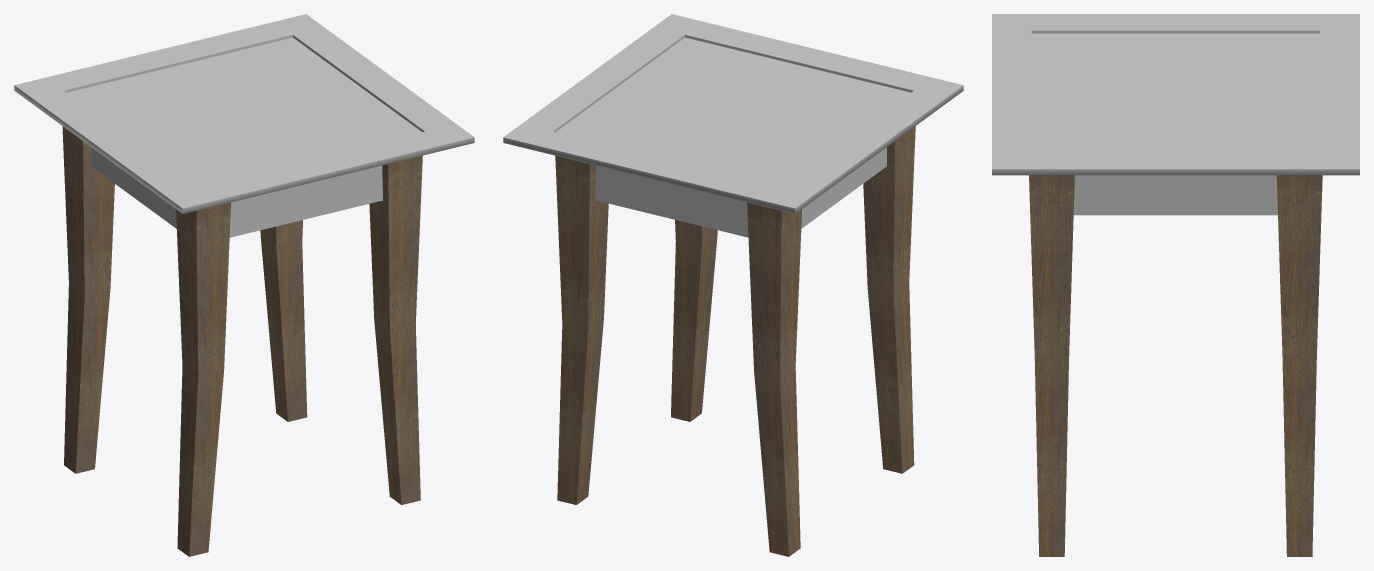
Rendered from EndTable_02sq.DAE.
3 views of the same model, side by side, from view 1: azimuth 30°, elevation 25°; view 2: azimuth 150°, elevation 25°; view 3: azimuth 270°, elevation 25° (orthographic). The views are drawn at different scales.
Visible parts, largest first — view 1: EndTableTwoSq300; view 2: EndTableTwoSq300; view 3: EndTableTwoSq300.
Boxes of the visible parts, x1=… form: EndTableTwoSq300: x1=14, y1=14, x2=474, y2=556; EndTableTwoSq300: x1=503, y1=14, x2=963, y2=556; EndTableTwoSq300: x1=992, y1=14, x2=1359, y2=556.
Bounding box in the file's own units: 34.45 × 34.45 × 41.86.
